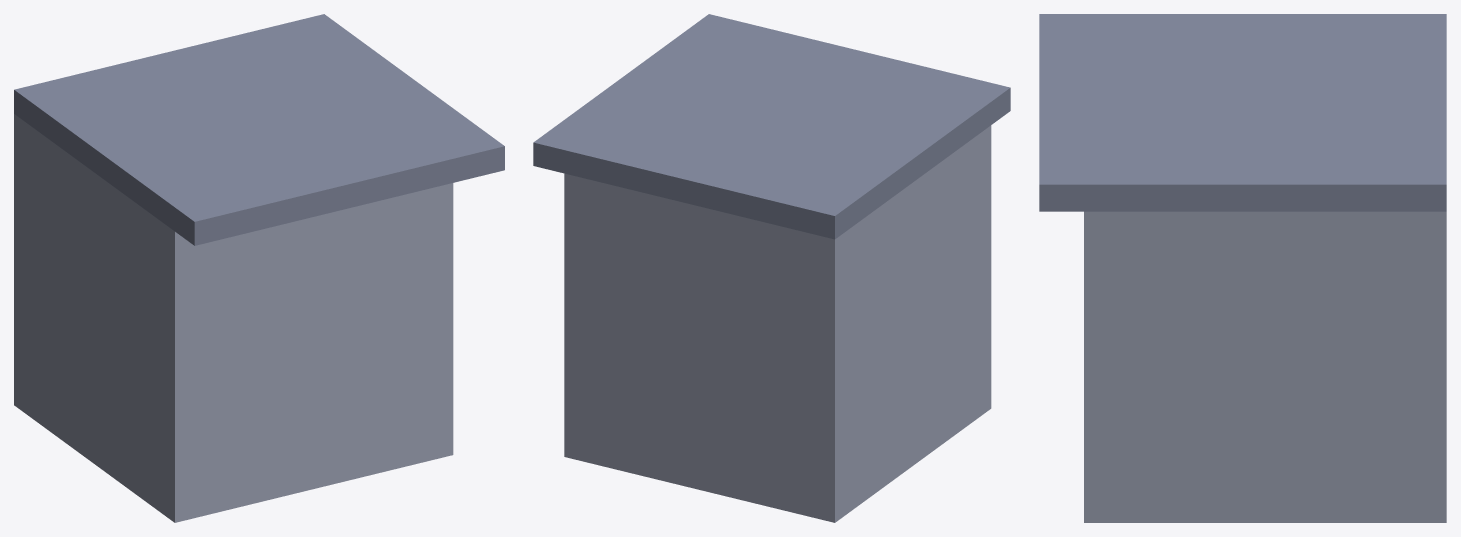
Rendered from counter-right.fbx.
3 views of the same model, side by side, from view 1: azimuth 30°, elevation 25°; view 2: azimuth 150°, elevation 25°; view 3: azimuth 270°, elevation 25° (orthographic). The views are drawn at different scales.
Parts seen in each view (by area): view 1: counter_right; view 2: counter_right; view 3: counter_right.
Part boxes in pixels (x1,y1,x2,y2): counter_right: (14, 14, 504, 522); counter_right: (533, 14, 1010, 522); counter_right: (1039, 14, 1446, 522).
Size of the model in its own units: 111 by 108 by 112.
